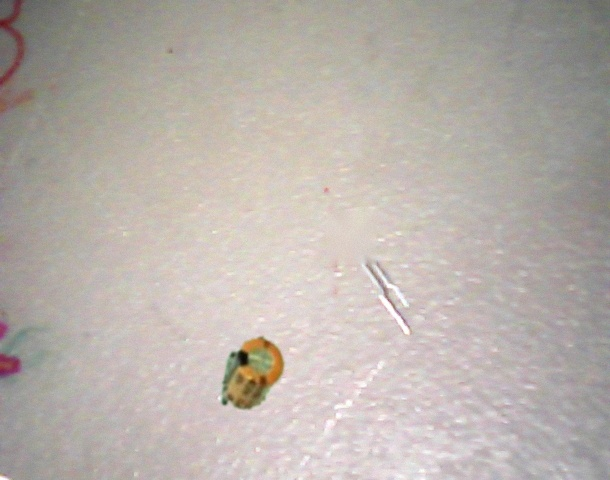capacitor: (221, 337, 285, 410)
